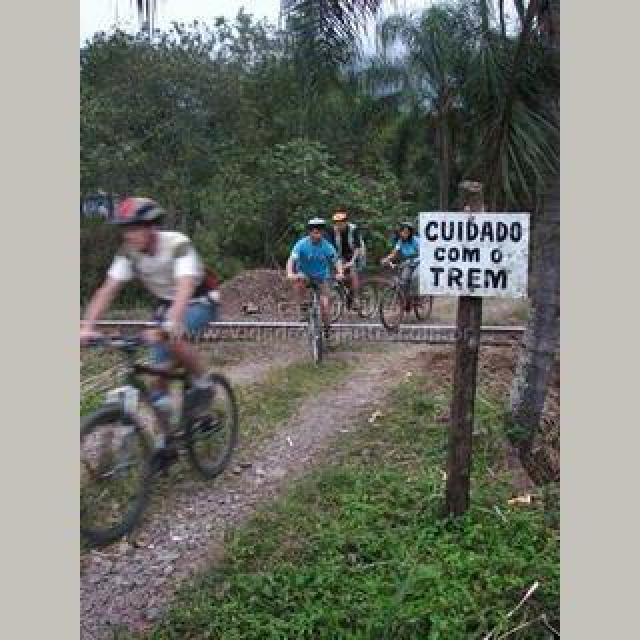MC-Bike: (82, 192, 220, 454), (288, 218, 342, 344), (328, 206, 364, 316), (378, 222, 420, 308)
Person: (80, 332, 240, 554), (290, 274, 332, 366), (380, 264, 434, 328)
